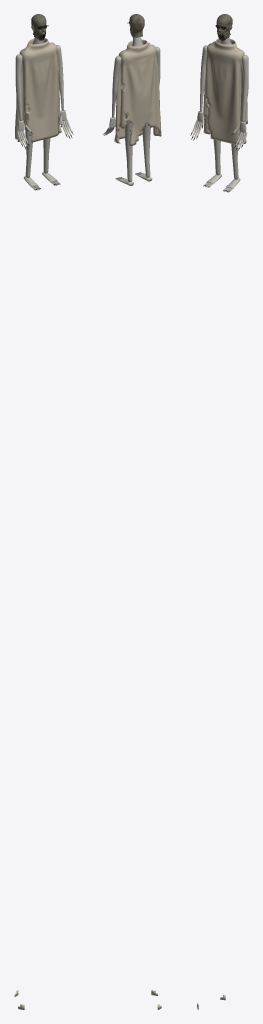
Rendered from visitor-ragged.glb.
3 views of the same model, side by side, from view 1: azimuth 30°, elevation 25°; view 2: azimuth 210°, elevation 25°; view 3: azimuth 330°, elevation 25° (orthographic).
Visible parts, largest first — view 1: Torso, ArmL, ArmR, LegL, Head, LegR; view 2: Torso, LegR, ArmR, LegL, Head; view 3: Torso, ArmR, ArmL, Head, LegL, LegR.
Part boxes in pixels (bbox=[...]): Torso: bbox=[14, 37, 61, 1009]; ArmL: bbox=[15, 54, 32, 149]; ArmR: bbox=[56, 45, 73, 138]; LegL: bbox=[24, 105, 40, 190]; Head: bbox=[31, 14, 48, 40]; LegR: bbox=[42, 138, 60, 185]; Torso: bbox=[114, 37, 161, 1009]; LegR: bbox=[115, 114, 133, 185]; ArmR: bbox=[103, 56, 121, 135]; LegL: bbox=[135, 124, 152, 181]; Head: bbox=[127, 14, 144, 37]; Torso: bbox=[197, 37, 247, 1009]; ArmR: bbox=[231, 55, 248, 150]; ArmL: bbox=[190, 45, 207, 140]; Head: bbox=[215, 14, 232, 40]; LegL: bbox=[203, 139, 221, 187]; LegR: bbox=[223, 143, 240, 192].
Size of the model in its own units: 0.6289 by 11.61 by 0.4599.
7 materials, 1 textured.
